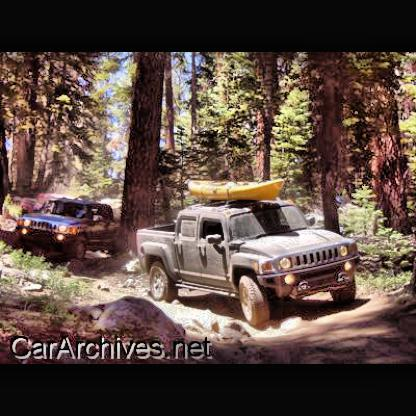HUMMER H3T Crew Cab 2010: (135, 178, 359, 332)
